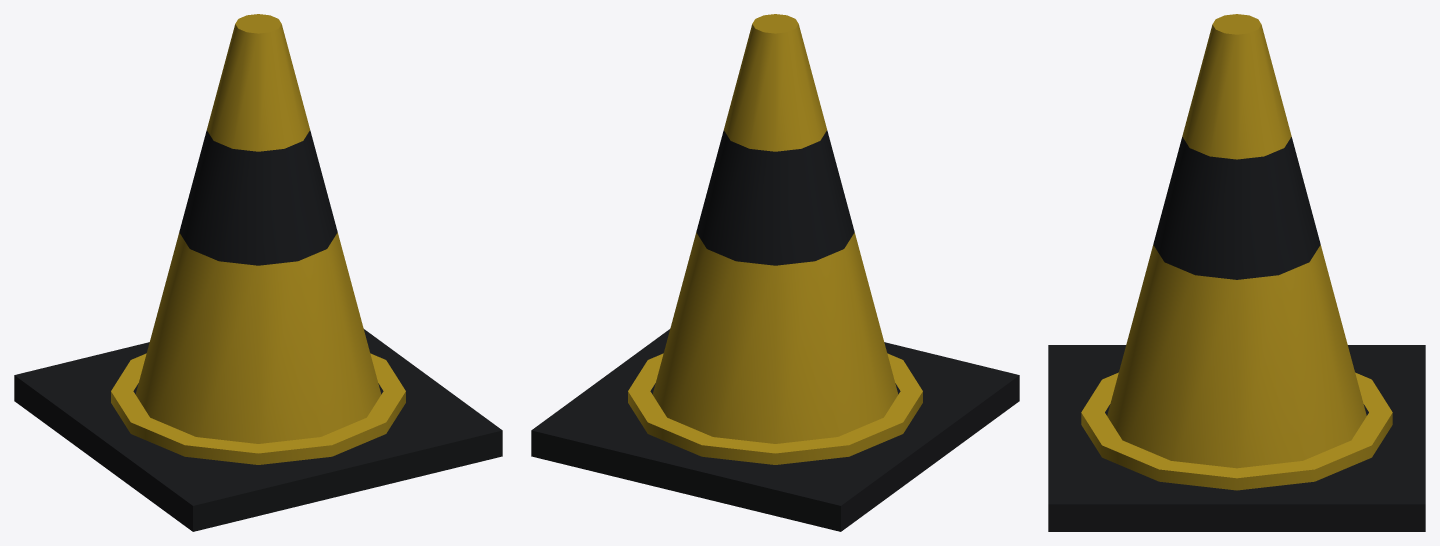
File: sign.cone_slim.yellow.glb
3 views of the same model, side by side, from view 1: azimuth 30°, elevation 25°; view 2: azimuth 150°, elevation 25°; view 3: azimuth 270°, elevation 25° (orthographic). The views are drawn at different scales.
Parts seen in each view (by area): view 1: sign_cone_slim_yellow; view 2: sign_cone_slim_yellow; view 3: sign_cone_slim_yellow.
Part boxes in pixels (<box>): sign_cone_slim_yellow: <box>14,14,502,531</box>; sign_cone_slim_yellow: <box>531,14,1019,531</box>; sign_cone_slim_yellow: <box>1048,14,1425,531</box>.
Size of what is drawn, in the model's own units: 0.56 by 0.7 by 0.56.
